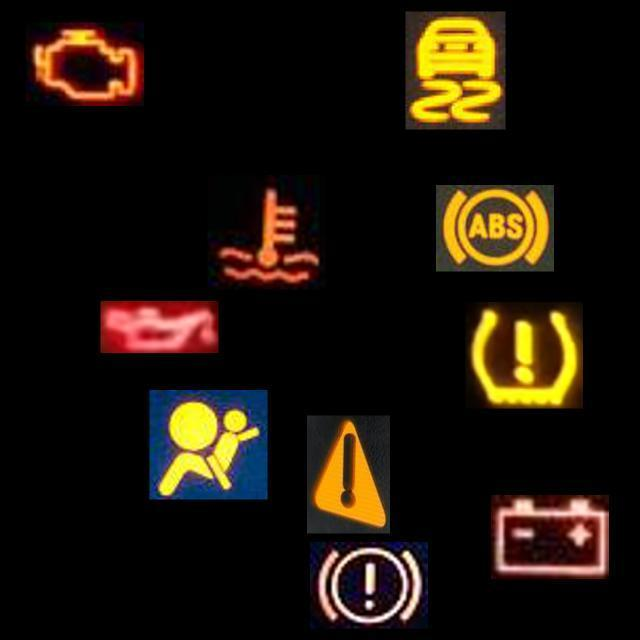Central Warning lamp: (307, 416, 390, 534)
Engine cooling system: (208, 174, 326, 290)
